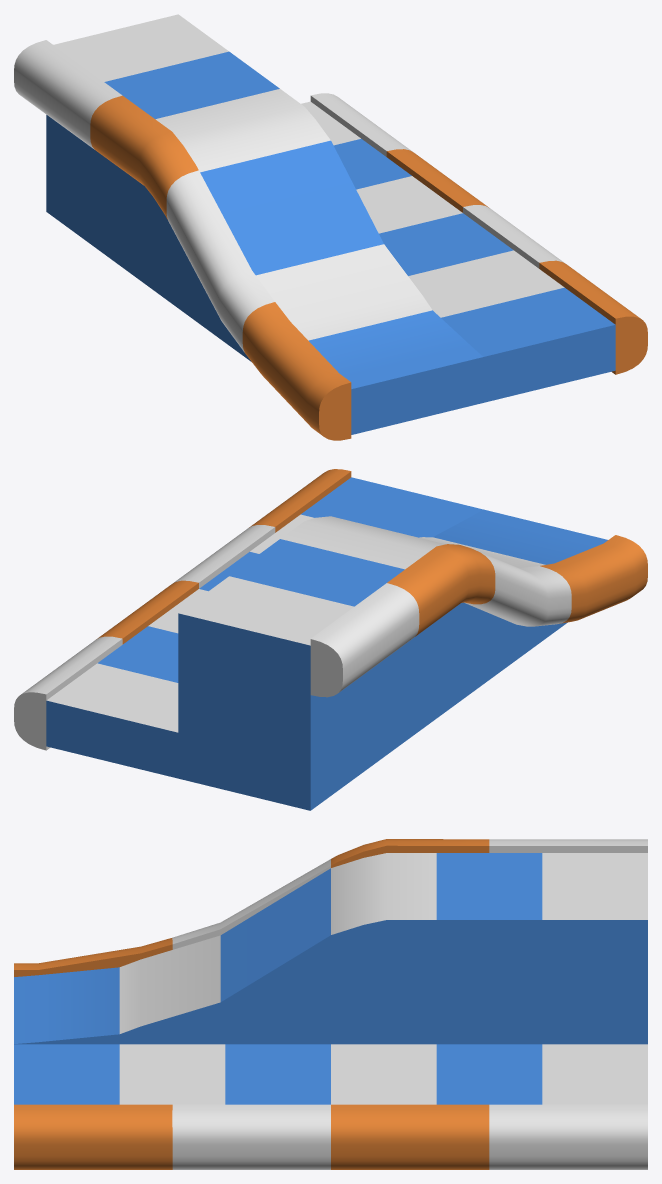
Rendered from yukselenplatform.fbx.
3 views of the same model, one above another, from view 1: azimuth 30°, elevation 25°; view 2: azimuth 150°, elevation 25°; view 3: azimuth 270°, elevation 25° (orthographic). The views are drawn at different scales.
Visible parts, largest first — view 1: Cube, solkenarlik, sagkenarlik; view 2: Cube, solkenarlik, sagkenarlik; view 3: Cube, sagkenarlik, solkenarlik.
Part boxes in pixels (x1,y1,x2,y2): Cube: [46, 14, 615, 434]; solkenarlik: [14, 40, 351, 440]; sagkenarlik: [310, 93, 647, 374]; Cube: [46, 477, 607, 810]; solkenarlik: [310, 535, 647, 697]; sagkenarlik: [14, 469, 351, 750]; Cube: [14, 853, 647, 1104]; sagkenarlik: [14, 1104, 647, 1169]; solkenarlik: [14, 839, 647, 976].
Size of the model in its own units: 249 by 128 by 400.
